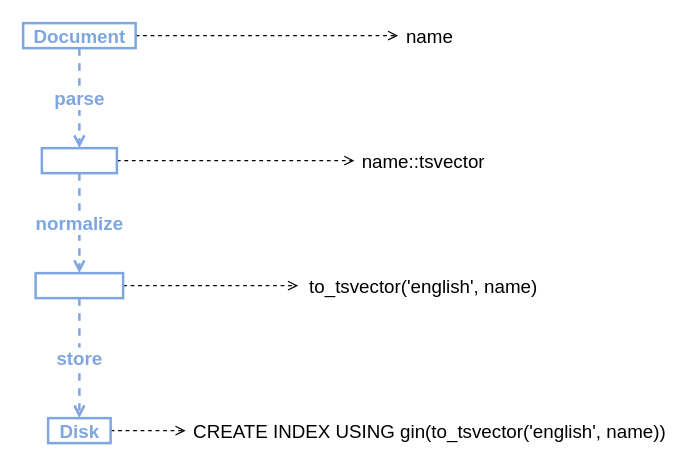
Image size: 694x465. Some labels were removed from this diagram. Each missing label, with the box of its shape:
lexemes: (34, 271, 124, 299)
tokens: (40, 146, 118, 174)
